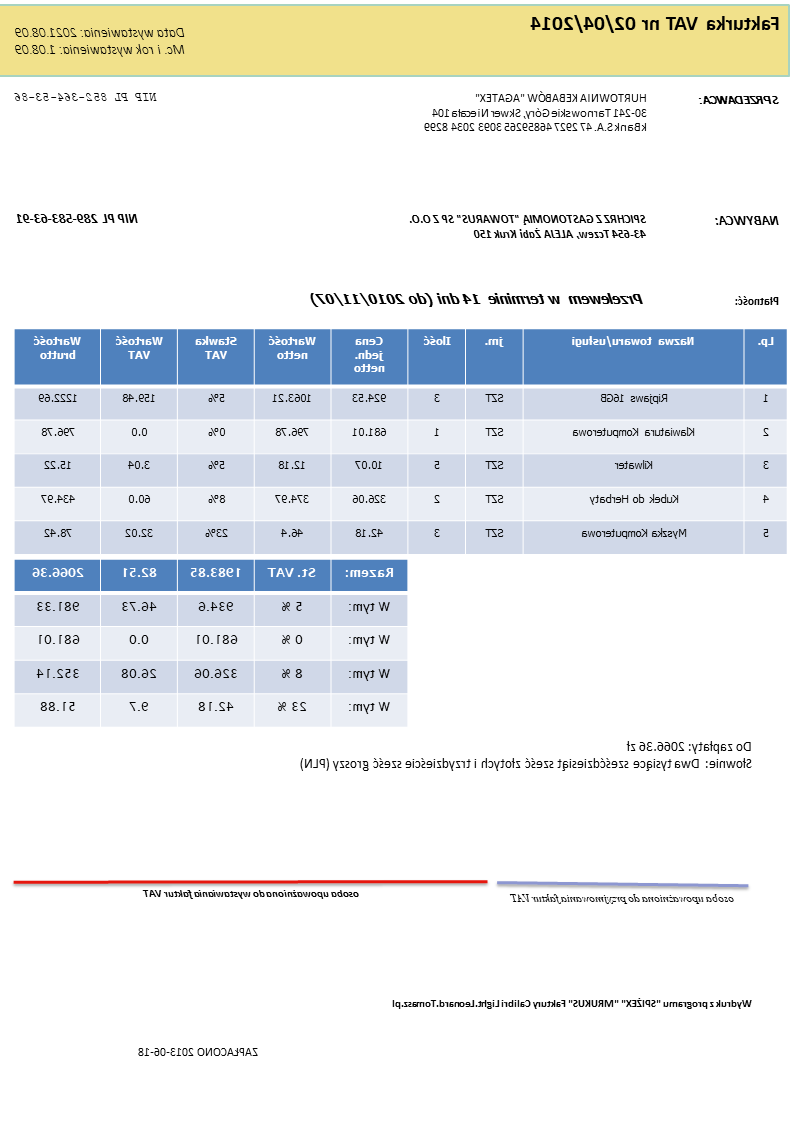Table: (14, 327, 789, 555), (14, 557, 409, 728)
TextBox: (299, 738, 755, 774), (422, 90, 650, 133), (408, 210, 649, 241), (308, 290, 647, 310), (11, 24, 187, 58), (528, 13, 782, 35), (389, 996, 754, 1011), (142, 886, 360, 902), (508, 891, 737, 906), (12, 88, 161, 105), (13, 211, 140, 226), (134, 1044, 261, 1058), (698, 91, 781, 106), (712, 211, 783, 228), (733, 293, 783, 307)
